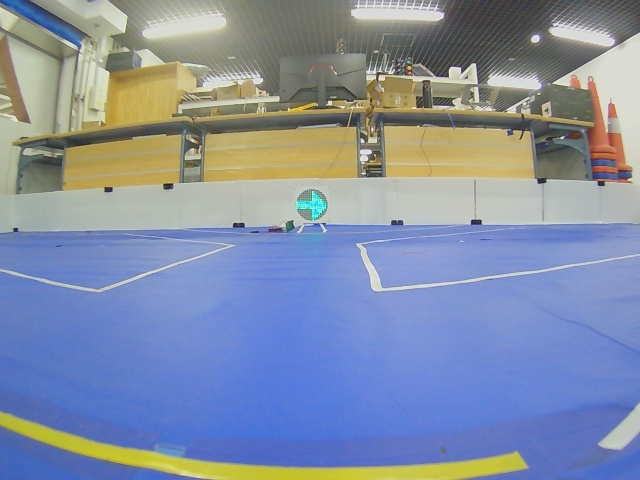right_green: (296, 189, 328, 222)
